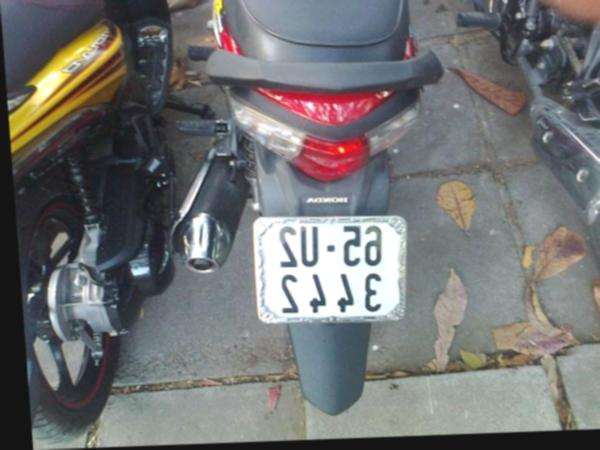License_Plate: (249, 220, 404, 324)
